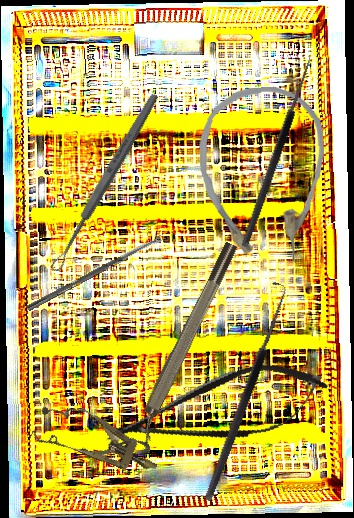Cannula: (197, 85, 328, 267)
Fixation Ring: (117, 239, 251, 459)
Hook Surgical: (193, 280, 291, 503), (231, 50, 315, 249)
Micro Scissor: (96, 349, 337, 470)
Speculum: (28, 393, 167, 491)
Surgical Spoon: (48, 91, 161, 274), (26, 234, 164, 313)
